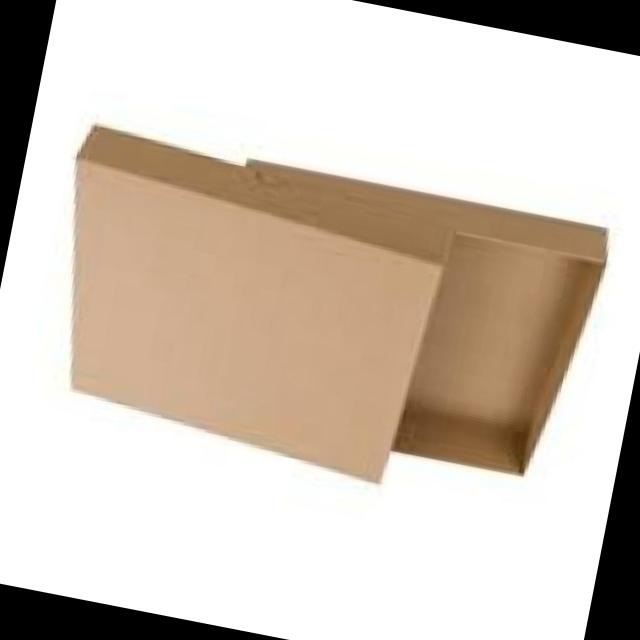cardboard paper: (73, 131, 607, 484), (73, 131, 450, 484)
